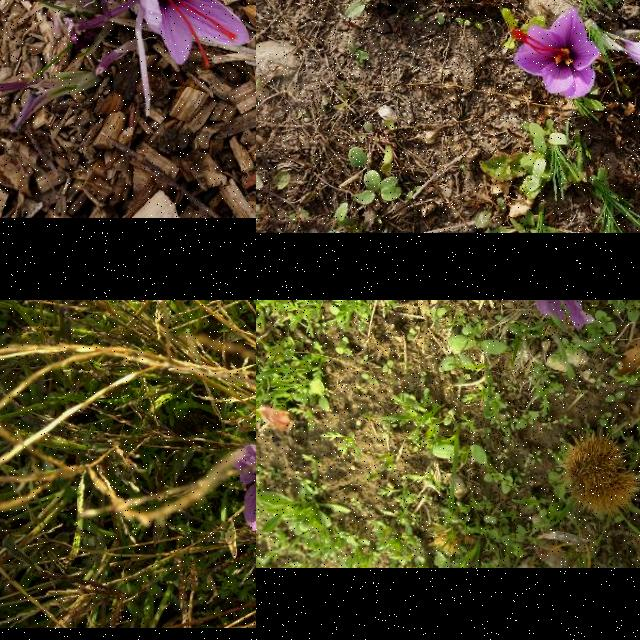flower: (512, 6, 602, 100), (140, 0, 252, 68), (487, 300, 628, 328), (228, 415, 256, 547), (622, 42, 640, 87)
